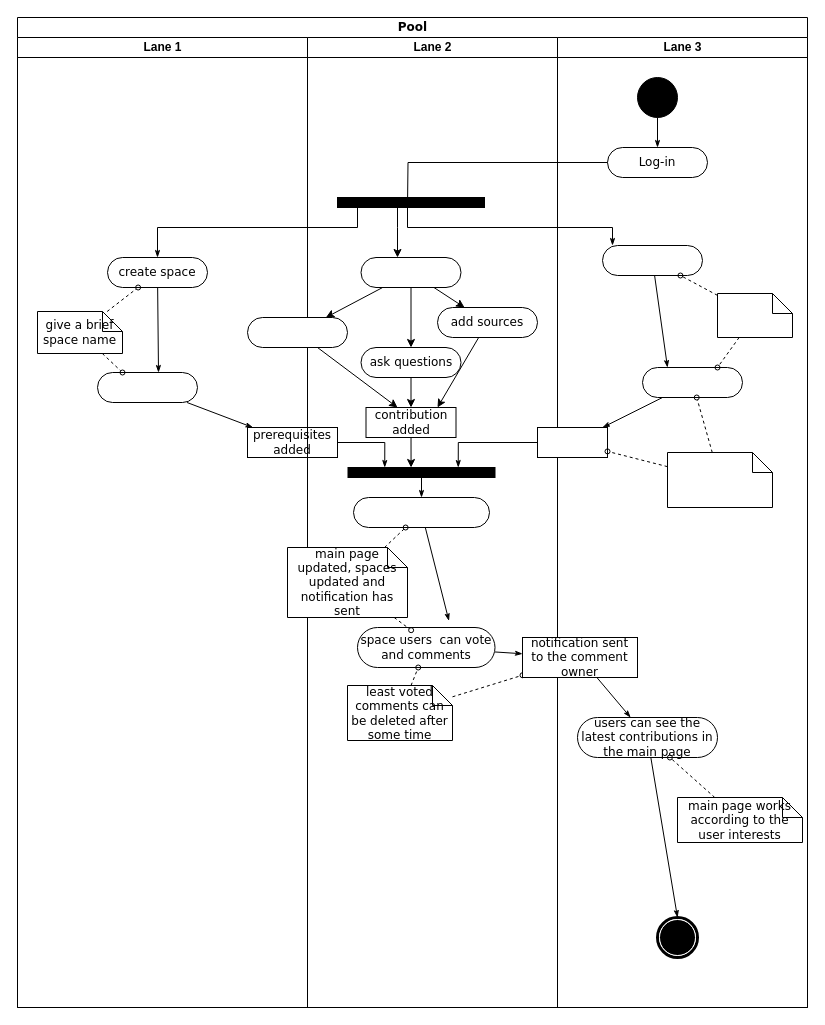
The diagram is 825 pixels wide and 1025 high, and some of its shapes have lost their labels. Here are the shapes that lost their labels. From the top down, the box of each, then its label:
(360, 256, 461, 288): contribute for learning
(602, 244, 702, 276): search spaces
(246, 316, 348, 348): add comments
(716, 292, 792, 338): use tags
(96, 372, 198, 402): create prerequisites
(642, 366, 742, 398): send request to enroll
(536, 426, 608, 458): request sent
(666, 452, 772, 508): when accepted, notification will be sent
(352, 496, 490, 528): platform has been updated with changes
